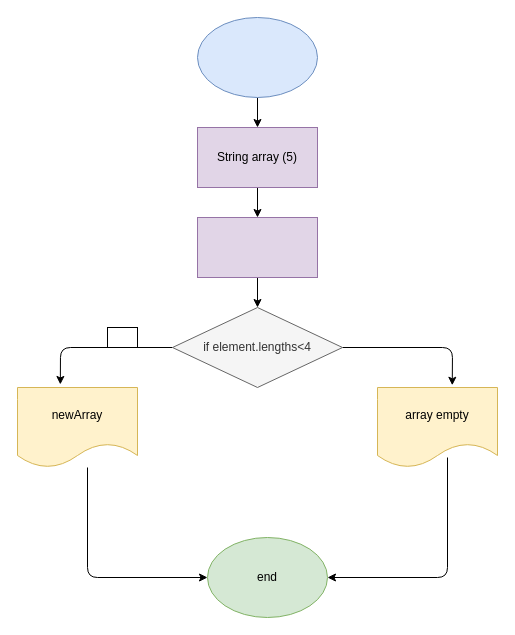
This 515x635 diagram has some shape labels left out. The box of each missing label's shape, as (x1, y1, x2, y2) in pixels:
FillStringArray: (196, 216, 318, 278)
Start: (196, 16, 318, 98)
yes: (106, 326, 138, 348)
